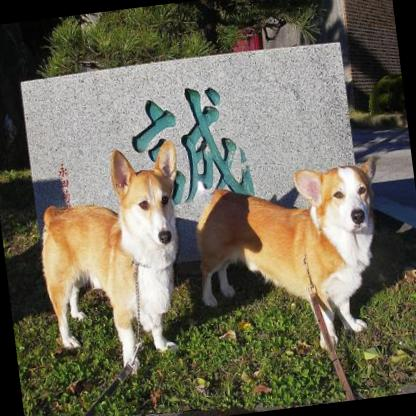Pembroke: (186, 152, 401, 366), (26, 134, 203, 388)
